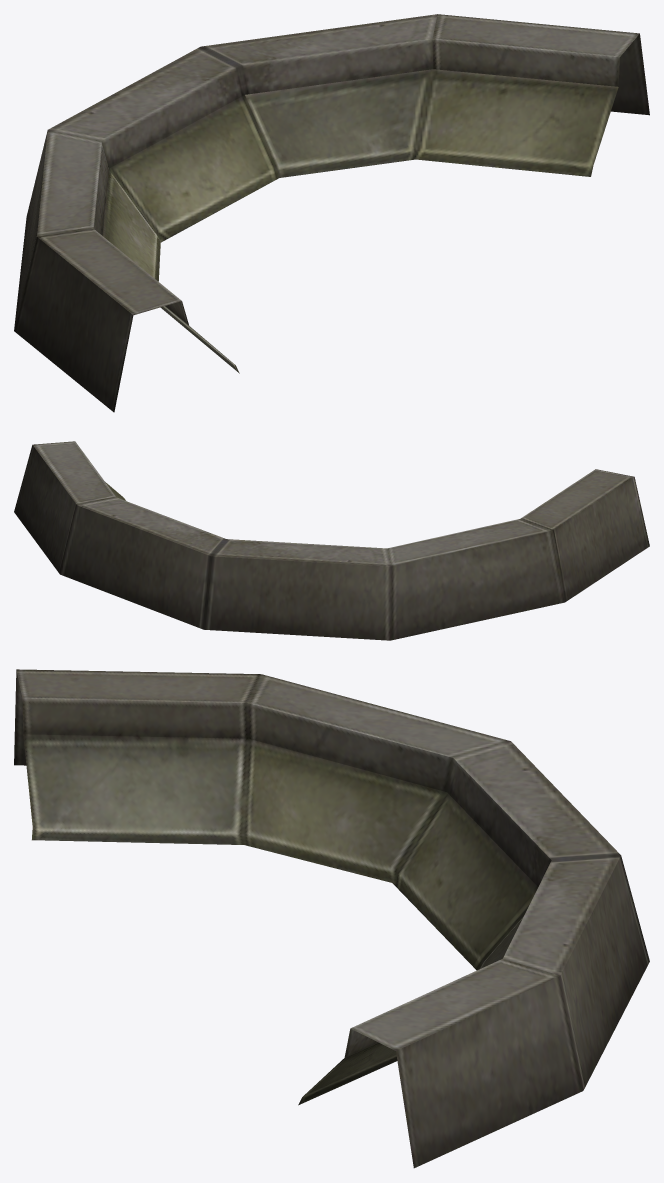
The model's file is H_Ferry03.FBX.
3 renders of one model, top to bottom at view 1: azimuth 30°, elevation 25°; view 2: azimuth 150°, elevation 25°; view 3: azimuth 270°, elevation 25°, orthographic. The views are drawn at different scales.
Parts seen in each view (by area): view 1: H_Ferry03; view 2: H_Ferry03; view 3: H_Ferry03.
Part boxes in pixels (x1,y1,x2,y2): H_Ferry03: [14, 14, 649, 412]; H_Ferry03: [14, 441, 649, 640]; H_Ferry03: [14, 669, 649, 1168].
Size of the model in its own units: 642 by 79.67 by 428.
